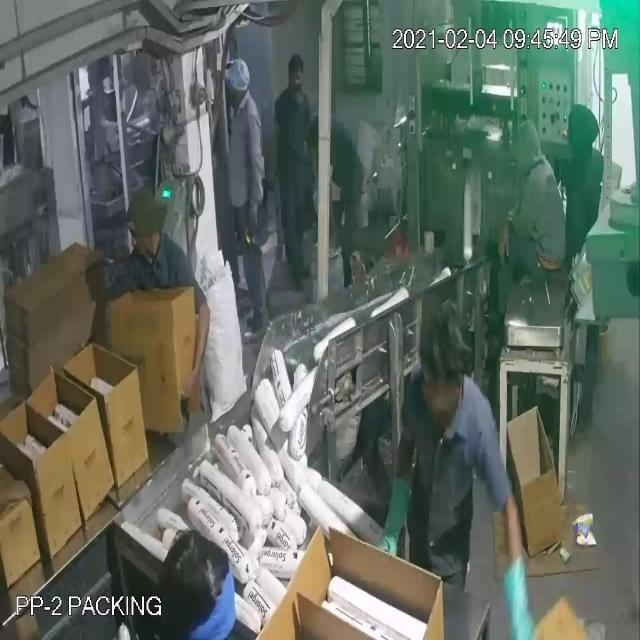No_Gloves: (26, 129, 518, 568)
